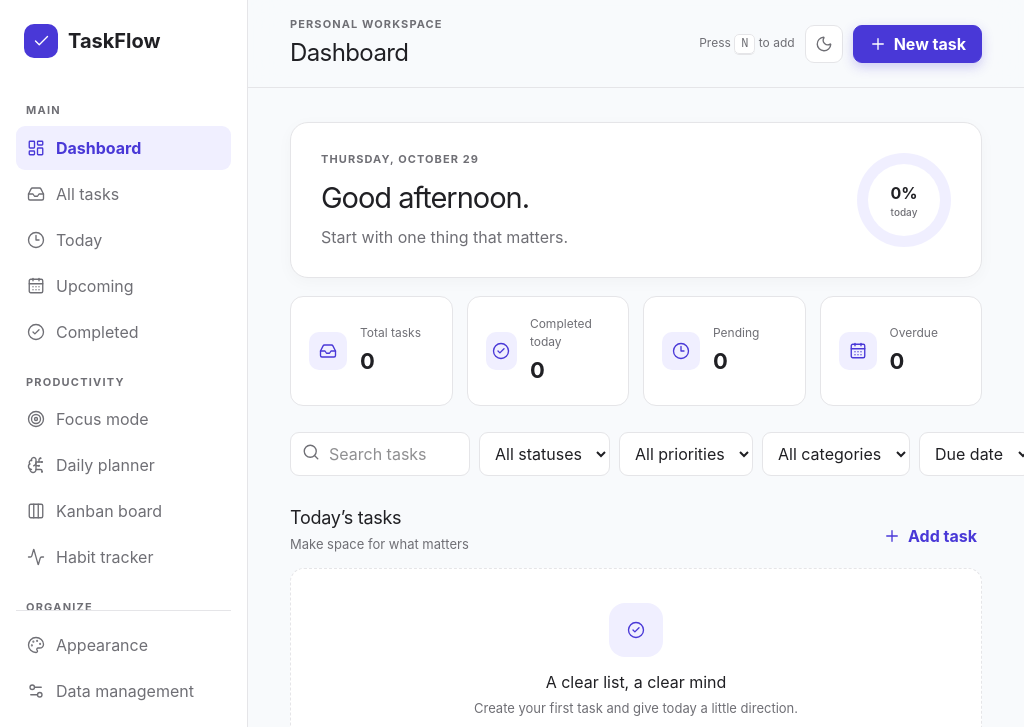
it: lets a failed page return to Dashboard without clearing storage
Click the button "Focus mode" at (124, 419), box [16, 397, 231, 441]
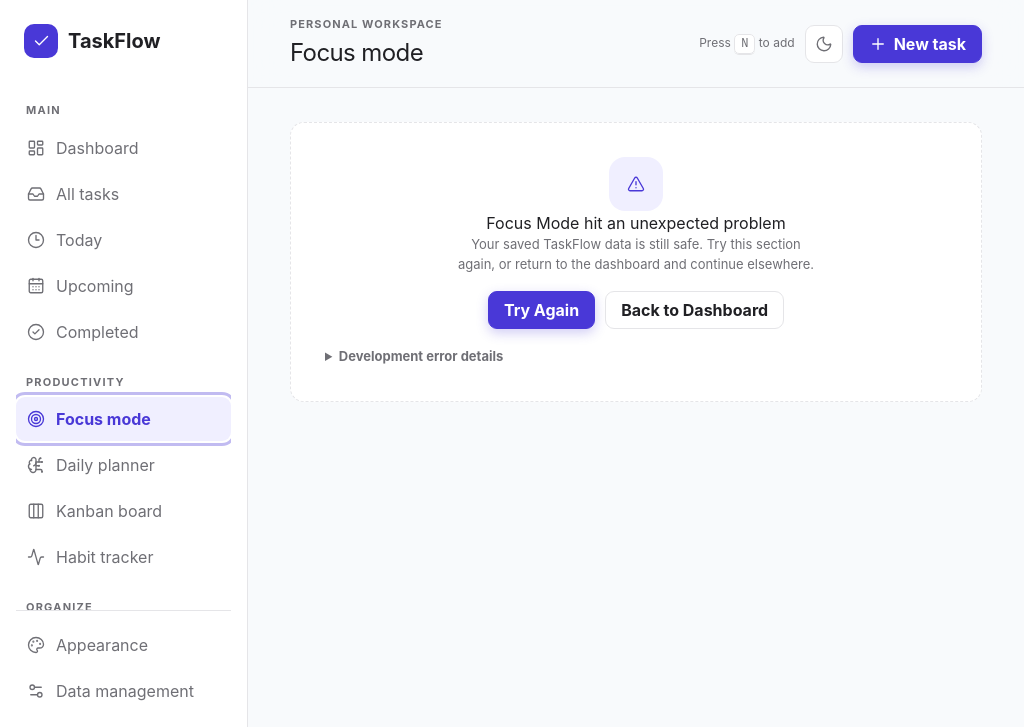
Click the button "Back to Dashboard" at (695, 310), box [605, 291, 784, 329]
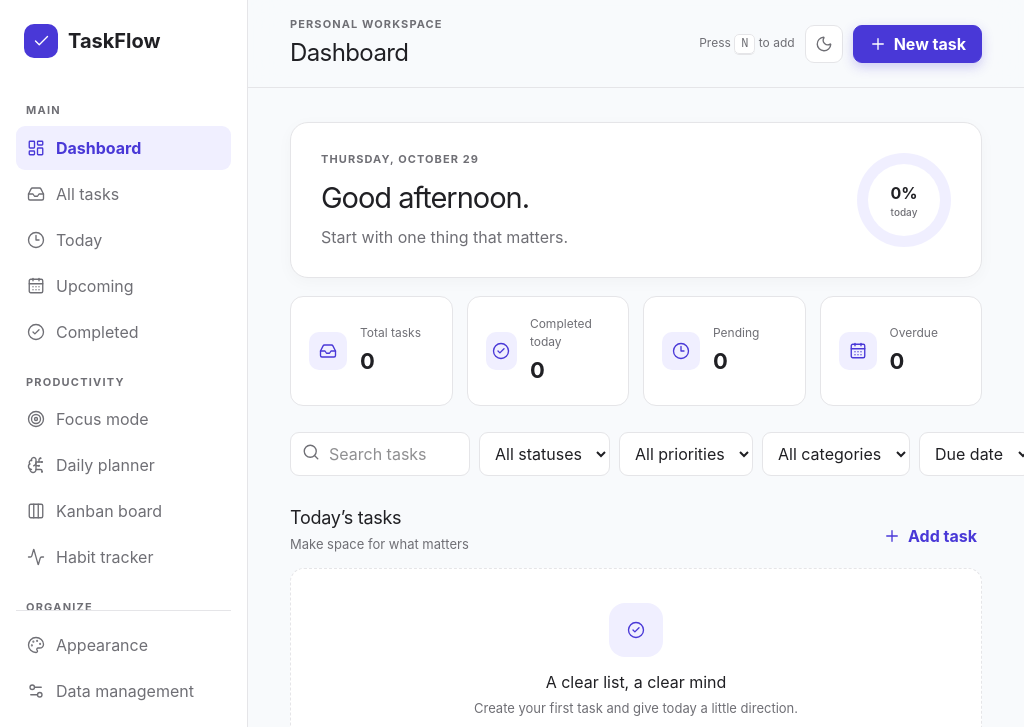
Expected: the heading "Good afternoon." is shown, [321, 180, 529, 214]
